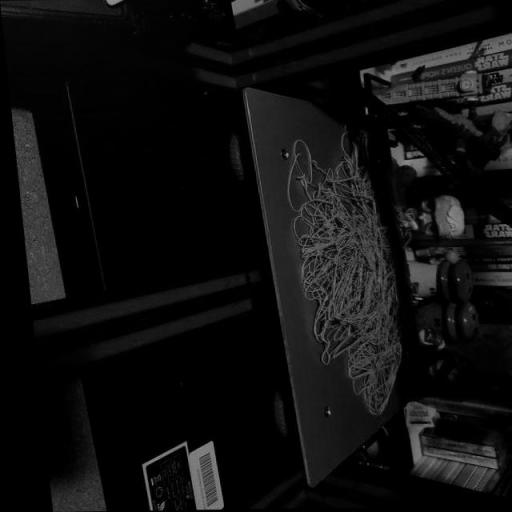spaghetti_and_stringing: (296, 198, 386, 355), (340, 125, 382, 200), (298, 162, 344, 204), (346, 350, 384, 400)
